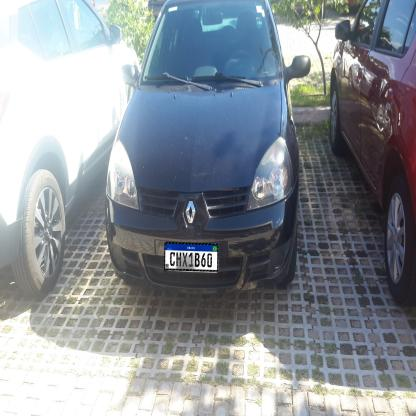PlacaM: (164, 242, 218, 272)
